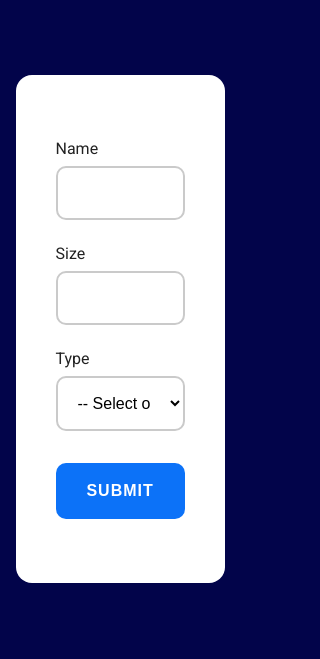
Test: When the user submits the form properly and he server returns created status › The form page must display the success message “Product stored” and clean the fields values
Type "my product" into the field labelled "Name" at (120, 193), box [56,166,185,220]
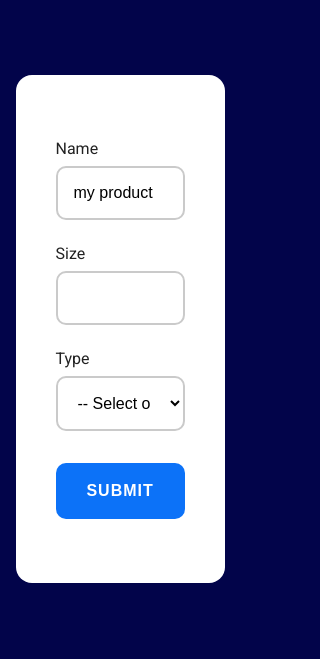
Type "10" into the field labelled "Size" at (120, 298), box [56,271,185,325]
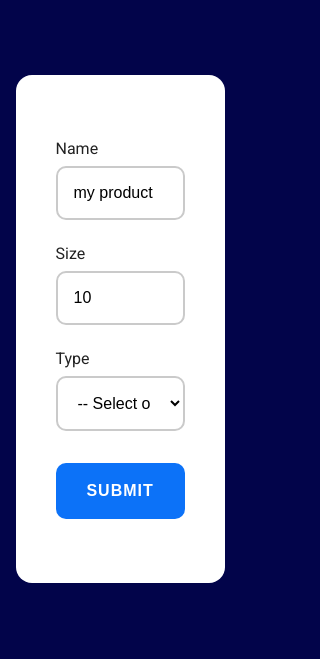
Select "Electronic" in the dropdown labelled "Type" at (120, 403), box [56,376,185,431]
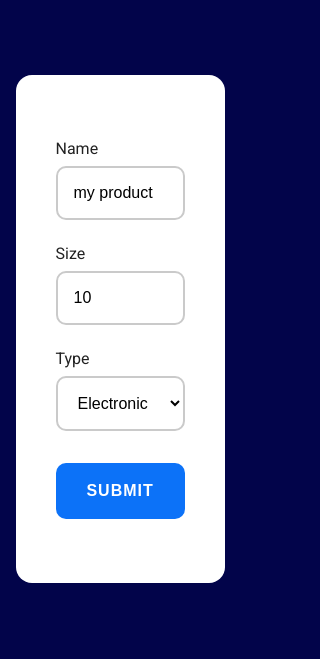
Click the button "Submit" at (120, 491), box [56,463,185,519]
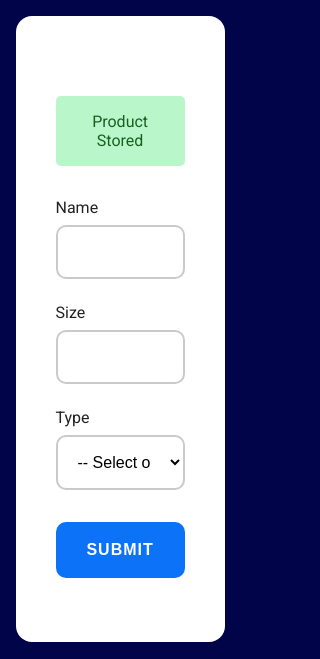
Expected: the text "Product Stored" is shown, [56,96,185,166]
Expected: the field labelled "Name" is empty, [56,225,185,279]
Expected: the field labelled "Size" is empty, [56,330,185,384]
